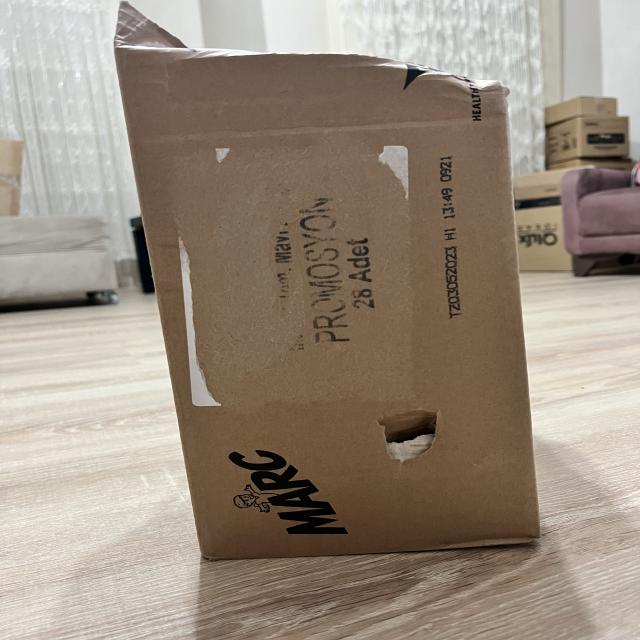damaged: (106, 29, 552, 572), (385, 49, 515, 117), (360, 400, 454, 476), (108, 0, 207, 61)
